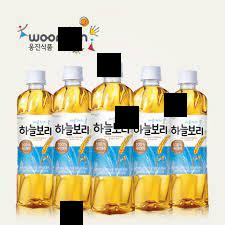haneulbori: (90, 63, 135, 215), (52, 66, 92, 213), (134, 62, 172, 211), (15, 68, 53, 210), (173, 69, 208, 209)
